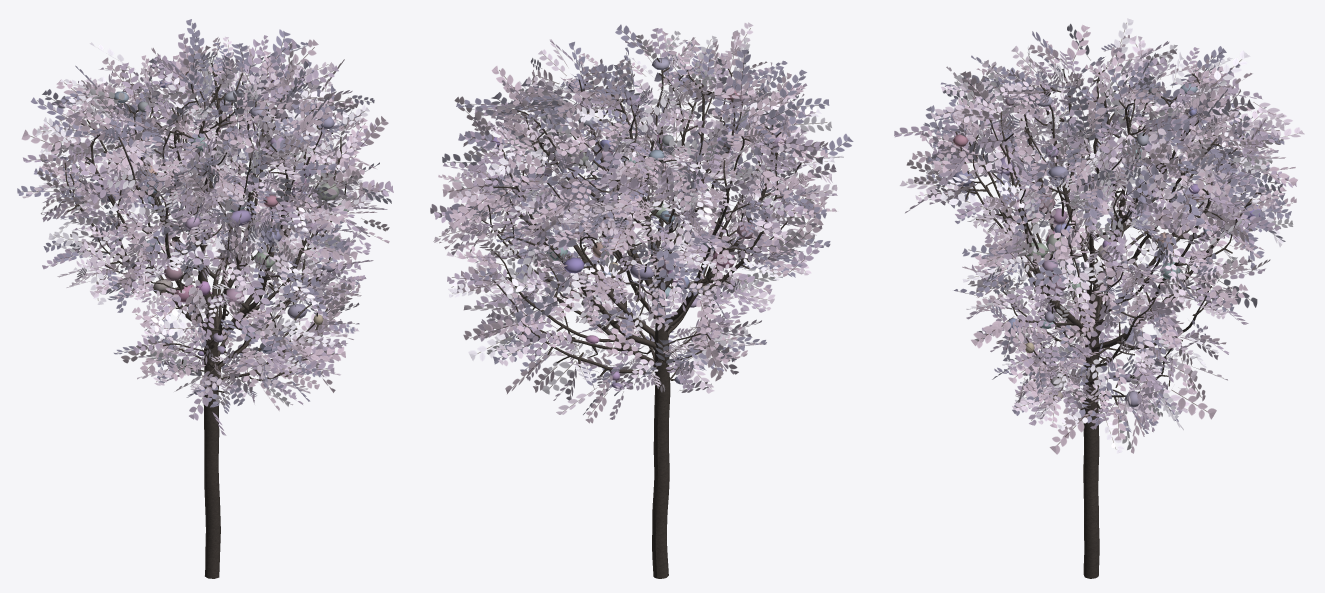
Rendered from tree_01_purple_plum.glb.
3 views of the same model, side by side, from view 1: azimuth 30°, elevation 25°; view 2: azimuth 150°, elevation 25°; view 3: azimuth 270°, elevation 25° (orthographic). The views are drawn at different scales.
Parts seen in each view (by area): view 1: tree_01_purple_plum.leaves, tree_01_purple_plum.trunk_branches, tree_01_purple_plum.foliage_volume; view 2: tree_01_purple_plum.leaves, tree_01_purple_plum.trunk_branches, tree_01_purple_plum.foliage_volume; view 3: tree_01_purple_plum.leaves, tree_01_purple_plum.trunk_branches, tree_01_purple_plum.foliage_volume.
Boxes of the visible parts, box(x1,y1,x2,y2) form: tree_01_purple_plum.leaves: box(17, 19, 393, 435); tree_01_purple_plum.trunk_branches: box(64, 63, 346, 578); tree_01_purple_plum.foliage_volume: box(84, 76, 348, 394); tree_01_purple_plum.leaves: box(430, 22, 853, 423); tree_01_purple_plum.trunk_branches: box(482, 57, 806, 578); tree_01_purple_plum.foliage_volume: box(490, 58, 785, 388); tree_01_purple_plum.leaves: box(894, 18, 1304, 454); tree_01_purple_plum.trunk_branches: box(955, 68, 1261, 578); tree_01_purple_plum.foliage_volume: box(952, 81, 1261, 407).
Bounding box in the file's own units: 7.76 × 10.58 × 7.54.
Materials: 3 (2 with a texture image).
